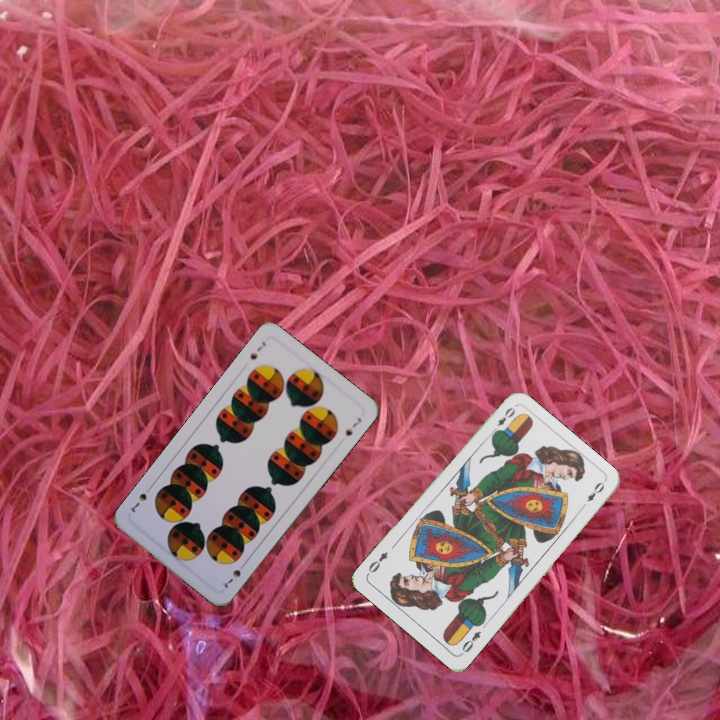EO: (487, 403, 518, 437), (457, 627, 484, 658)
S7: (220, 558, 249, 590), (246, 337, 268, 362)
